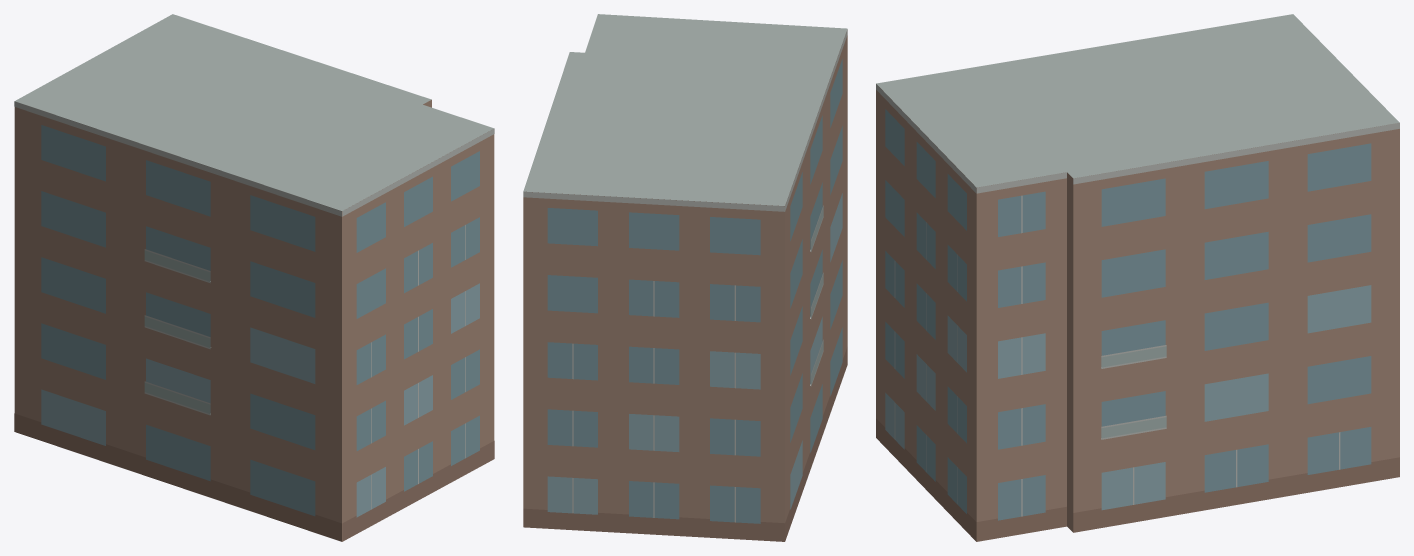
File: survey-upis-33006714.glb
The picture shows the model from 3 angles, left to right: view 1: azimuth 30°, elevation 25°; view 2: azimuth 150°, elevation 25°; view 3: azimuth 270°, elevation 25°; orthographic projection. The views are drawn at different scales.
Parts seen in each view (by area): view 1: survey-upis-33006714.tmp; view 2: survey-upis-33006714.tmp; view 3: survey-upis-33006714.tmp.
Part boxes in pixels (left/top/right/bottom): survey-upis-33006714.tmp: left=14, top=14, right=494, bottom=541; survey-upis-33006714.tmp: left=523, top=14, right=847, bottom=541; survey-upis-33006714.tmp: left=876, top=14, right=1399, bottom=541.
Size of the model in its own units: 15.04 by 14.3 by 19.17.
